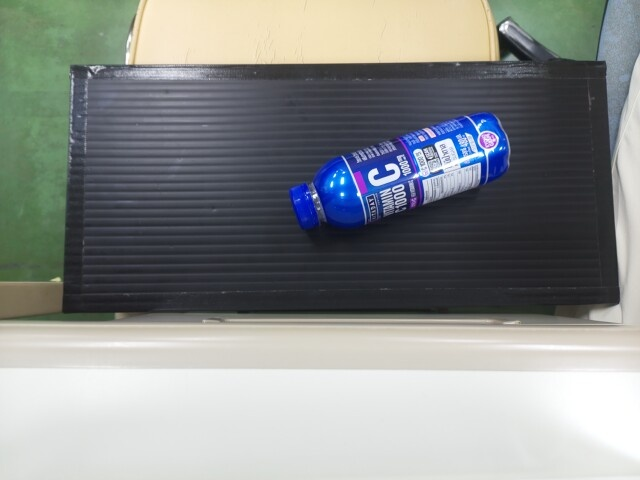plastic_bottle: (279, 134, 439, 227)
